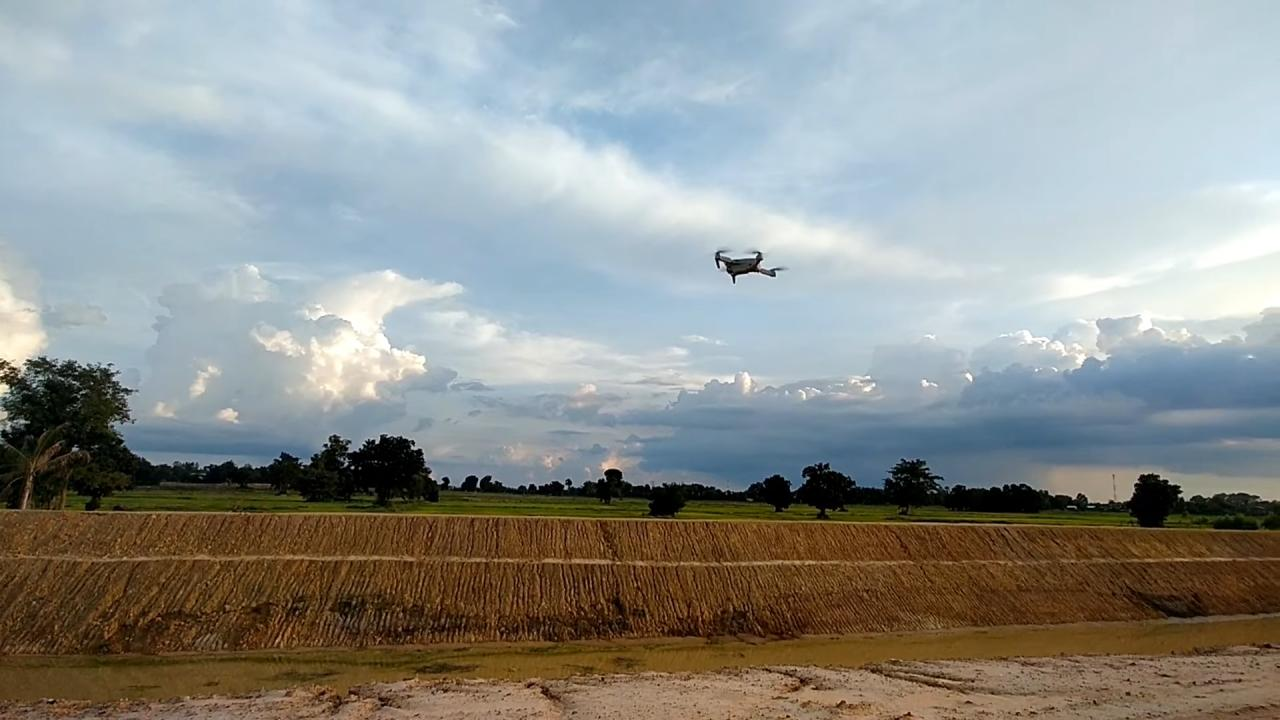Drone: (704, 239, 791, 292)
